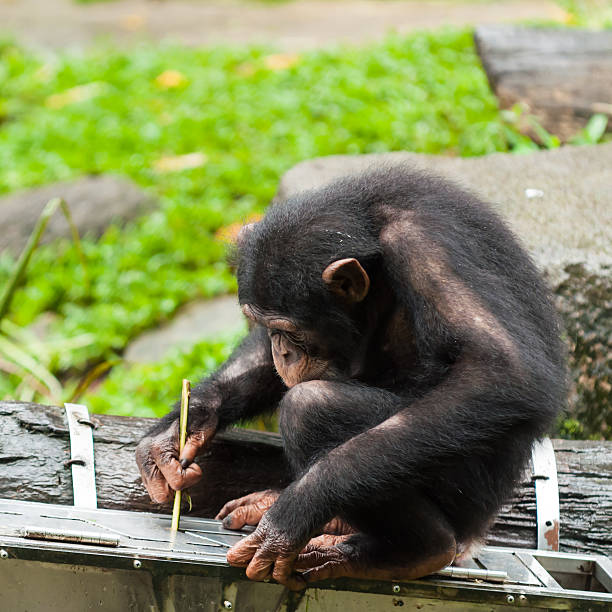chimpanzee: (213, 197, 388, 385)
